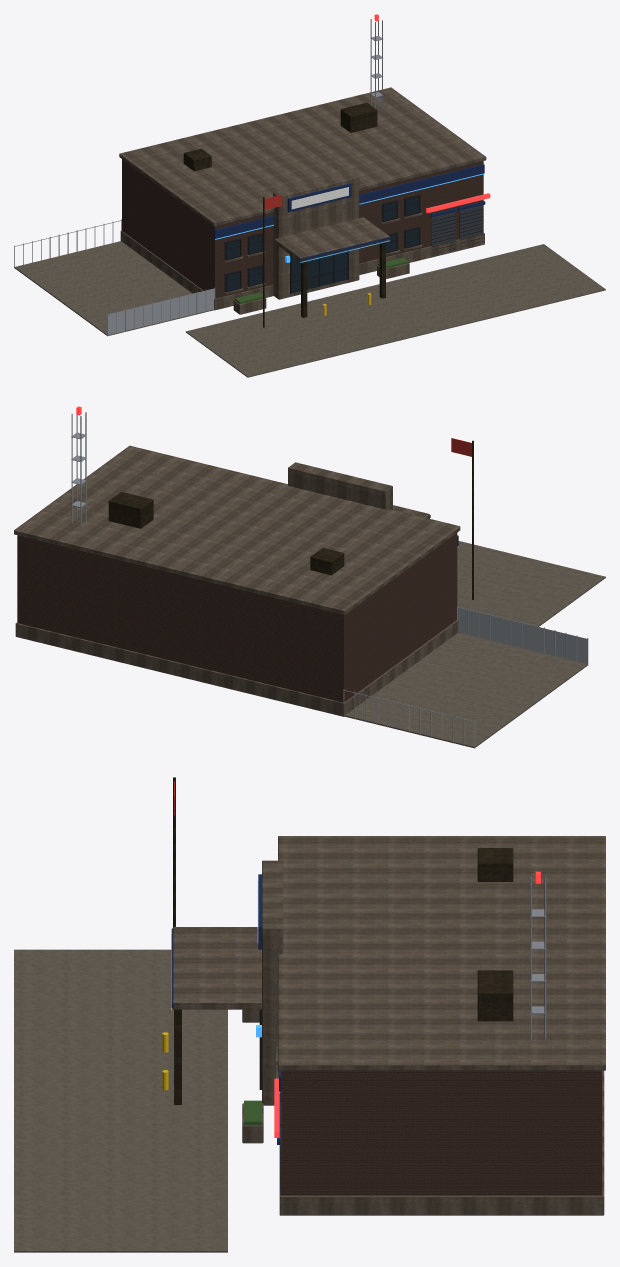
File: OT_Police_A.glb
3 views of the same model, one above another, from view 1: azimuth 30°, elevation 25°; view 2: azimuth 150°, elevation 25°; view 3: azimuth 270°, elevation 25° (orthographic). The views are drawn at different scales.
Parts seen in each view (by area): view 1: OT_Police_A_Concrete, OT_Police_A_Pavement, OT_Police_A_Brick, OT_Police_A_Glass__1c2833, OT_Police_A_PoliceNavy__1b2f5c, OT_Police_A_Metal, OT_Police_A_ChainLink__9aa0a6, OT_Police_A_Frame__1a1b1e, OT_Police_A_Fence__8a8f96, OT_Police_A_BayDoor__3a3f46, OT_Police_A_PaintWhite__f0f0ee; view 2: OT_Police_A_Concrete, OT_Police_A_Brick, OT_Police_A_Pavement, OT_Police_A_ChainLink__9aa0a6, OT_Police_A_Fence__8a8f96, OT_Police_A_Metal; view 3: OT_Police_A_Concrete, OT_Police_A_Pavement, OT_Police_A_Brick, OT_Police_A_Metal, OT_Police_A_Fence__8a8f96, OT_Police_A_PoliceNavy__1b2f5c.
Part boxes in pixels (x1,y1,x2,y2): OT_Police_A_Concrete: [119, 87, 486, 314]; OT_Police_A_Pavement: [14, 241, 605, 377]; OT_Police_A_Brick: [122, 159, 483, 298]; OT_Police_A_Glass__1c2833: [227, 197, 418, 293]; OT_Police_A_PoliceNavy__1b2f5c: [214, 164, 485, 261]; OT_Police_A_Metal: [183, 102, 385, 327]; OT_Police_A_ChainLink__9aa0a6: [108, 289, 214, 335]; OT_Police_A_Frame__1a1b1e: [225, 195, 483, 293]; OT_Police_A_Fence__8a8f96: [14, 19, 383, 336]; OT_Police_A_BayDoor__3a3f46: [431, 205, 482, 245]; OT_Police_A_PaintWhite__f0f0ee: [291, 187, 348, 209]; OT_Police_A_Concrete: [14, 445, 460, 716]; OT_Police_A_Brick: [17, 533, 457, 702]; OT_Police_A_Pavement: [345, 541, 605, 747]; OT_Police_A_ChainLink__9aa0a6: [457, 608, 587, 663]; OT_Police_A_Fence__8a8f96: [71, 412, 588, 748]; OT_Police_A_Metal: [108, 440, 473, 599]; OT_Police_A_Concrete: [172, 836, 605, 1215]; OT_Police_A_Pavement: [14, 949, 227, 1252]; OT_Police_A_Brick: [281, 1070, 602, 1195]; OT_Police_A_Metal: [173, 777, 513, 1104]; OT_Police_A_Fence__8a8f96: [530, 877, 546, 1039]; OT_Police_A_PoliceNavy__1b2f5c: [171, 874, 281, 1144].
Size of the model in its own units: 47.03 by 19.5 by 33.2.
25 materials, 4 textured.
